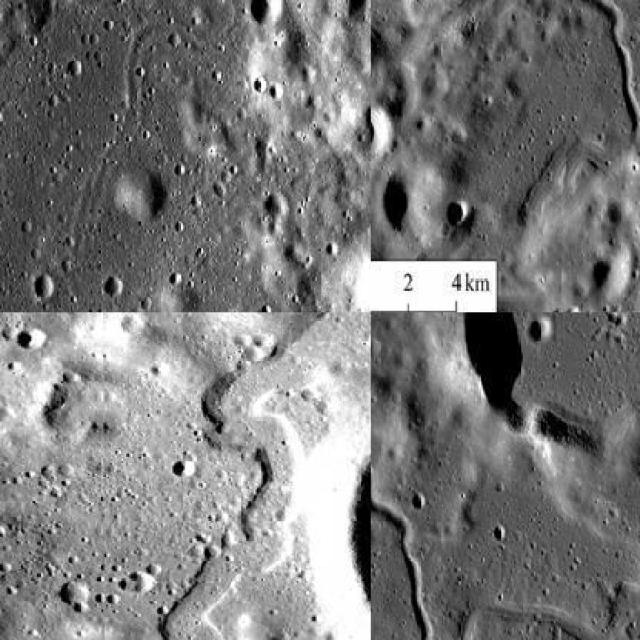rille: (51, 0, 252, 311), (371, 437, 638, 638), (119, 358, 303, 638), (432, 0, 638, 182)
